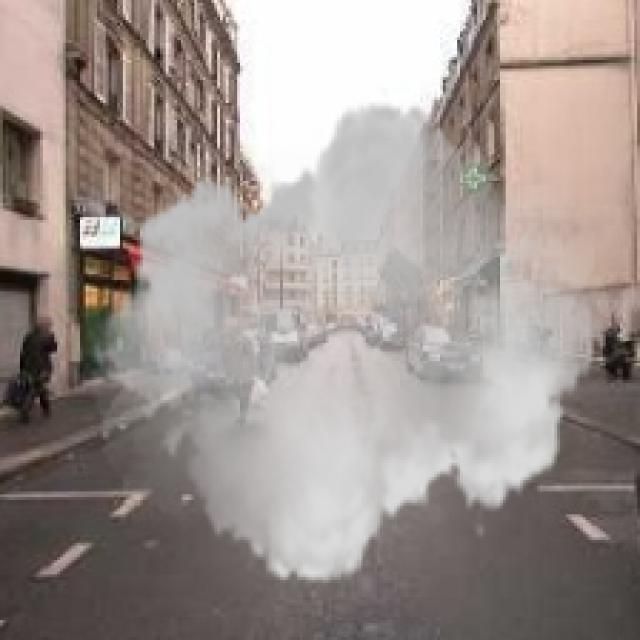smoke: (91, 83, 606, 603)
